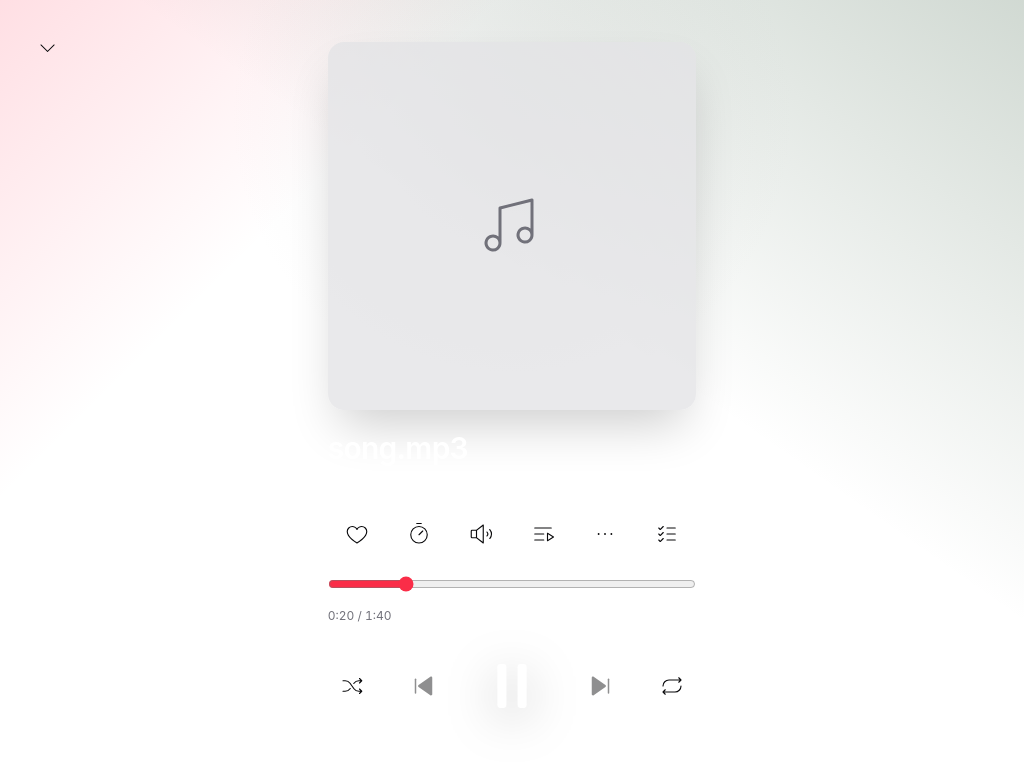
FullPlayerScreen › full player scrubber keeps tracking drags outside the progress bar
Press the mouse on the slider with test id "scrubber" at (512, 584), box [328,576,696,592]
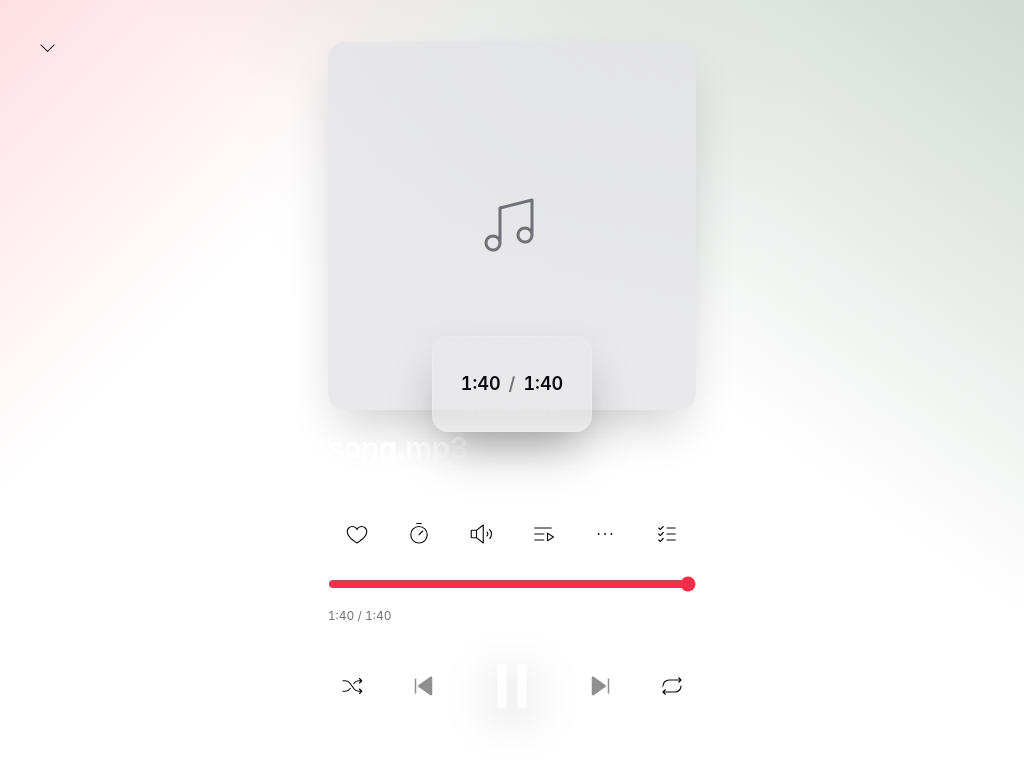
Result: the element with test id "full-scrub-preview" reads "1:40 / 1:40" at [432,336,592,432]
